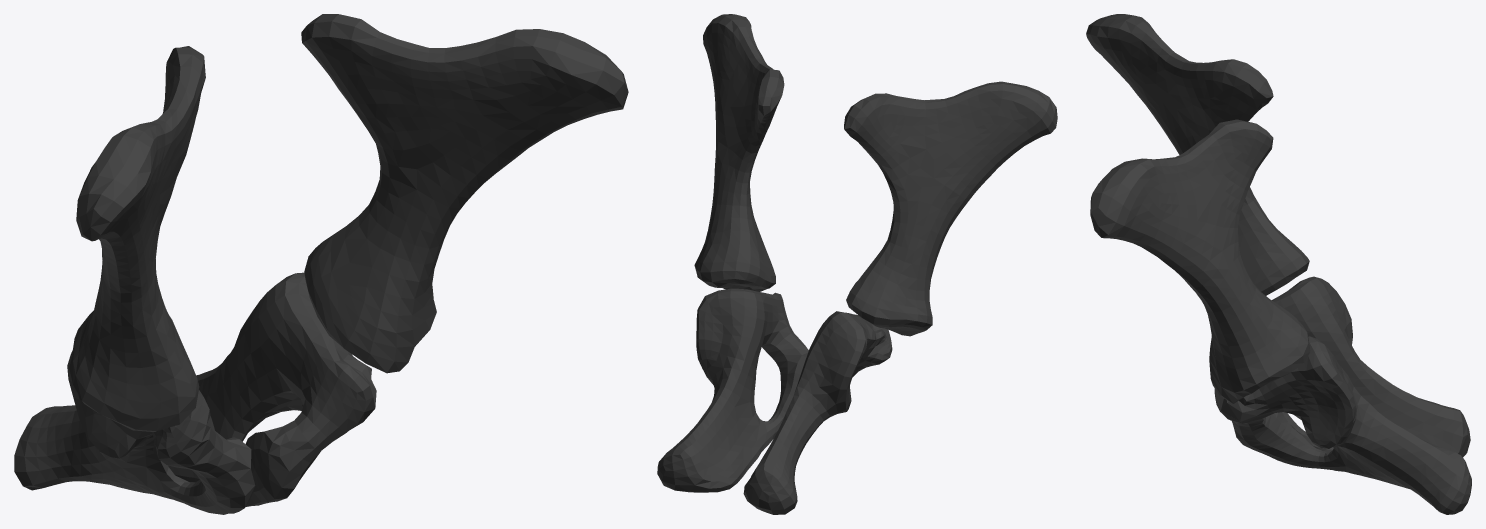
File: PELVIS.glb
3 views of the same model, side by side, from view 1: azimuth 30°, elevation 25°; view 2: azimuth 150°, elevation 25°; view 3: azimuth 270°, elevation 25° (orthographic). The views are drawn at different scales.
Visible parts, largest first — view 1: PELVIS; view 2: PELVIS; view 3: PELVIS.
Part boxes in pixels (<box>): PELVIS: <box>14,14,628,514</box>; PELVIS: <box>657,14,1057,514</box>; PELVIS: <box>1086,14,1471,514</box>.
Bounding box in the file's own units: 53.36 × 50.89 × 45.12.
Materials: 1 (1 with a texture image).
